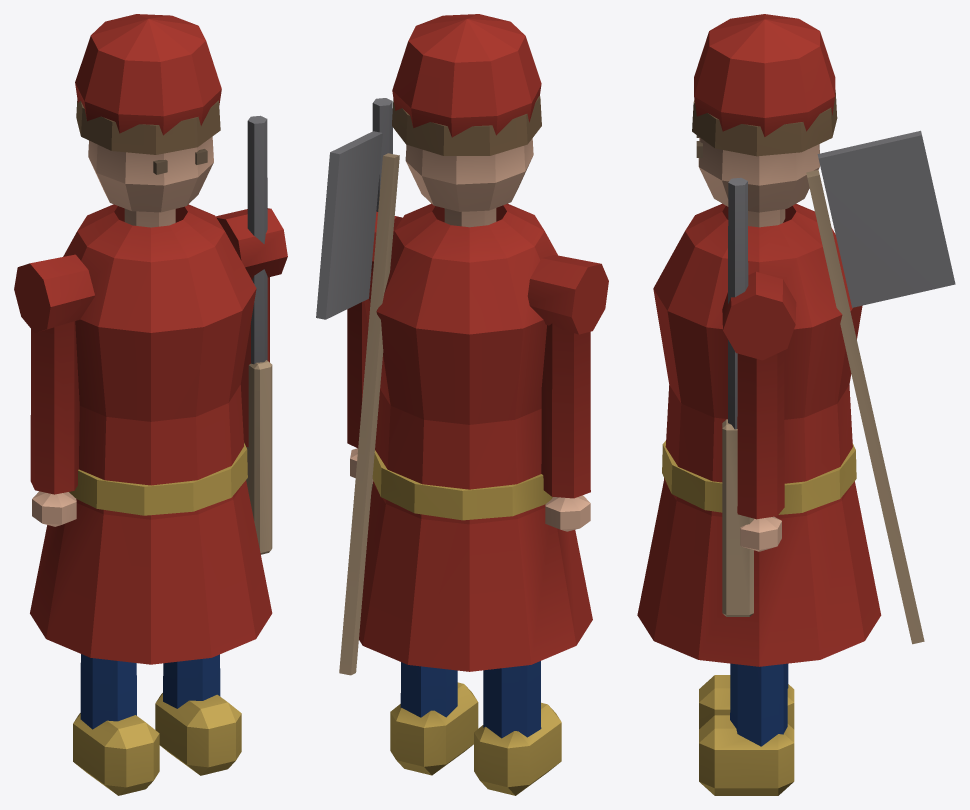
The model's file is unit_strelec.glb.
3 renders of one model, left to right at view 1: azimuth 30°, elevation 25°; view 2: azimuth 150°, elevation 25°; view 3: azimuth 270°, elevation 25°, orthographic.
Visible parts, largest first — view 1: unit_strelec; view 2: unit_strelec; view 3: unit_strelec.
Boxes of the visible parts, <box> form: unit_strelec: <box>14,14,287,795</box>; unit_strelec: <box>316,14,608,795</box>; unit_strelec: <box>637,14,955,795</box>.
Bounding box in the file's own units: 0.26 × 0.78 × 0.3001.
